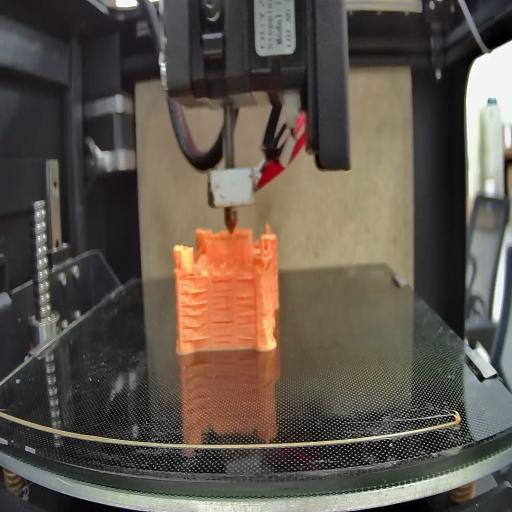cracks: (180, 288, 208, 344), (211, 275, 232, 345), (237, 295, 255, 343), (237, 272, 256, 285)
